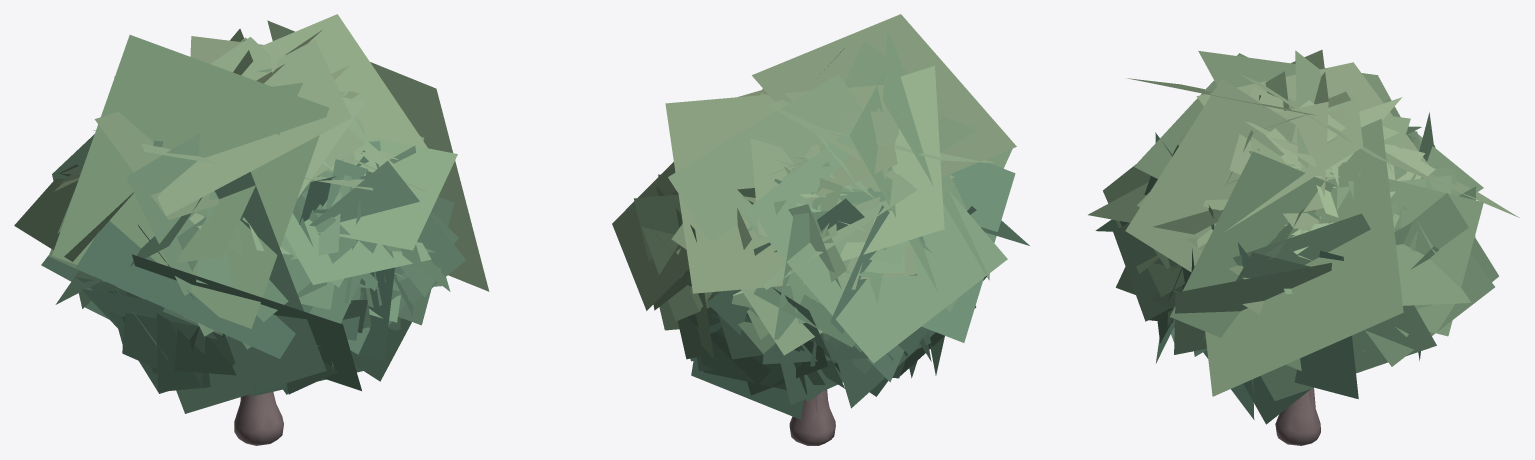
The model's file is oak_v3.glb.
3 views of the same model, side by side, from view 1: azimuth 30°, elevation 25°; view 2: azimuth 150°, elevation 25°; view 3: azimuth 270°, elevation 25° (orthographic). The views are drawn at different scales.
Visible parts, largest first — view 1: far, near; view 2: far, near; view 3: far, near.
Part boxes in pixels (bbox=[...]): far: bbox=[14, 14, 489, 413]; near: bbox=[41, 36, 458, 445]; far: bbox=[665, 14, 1029, 412]; near: bbox=[612, 88, 986, 445]; far: bbox=[1088, 50, 1519, 424]; near: bbox=[1113, 86, 1498, 445].
Size of the model in its own units: 16.7 by 14.82 by 16.26.
